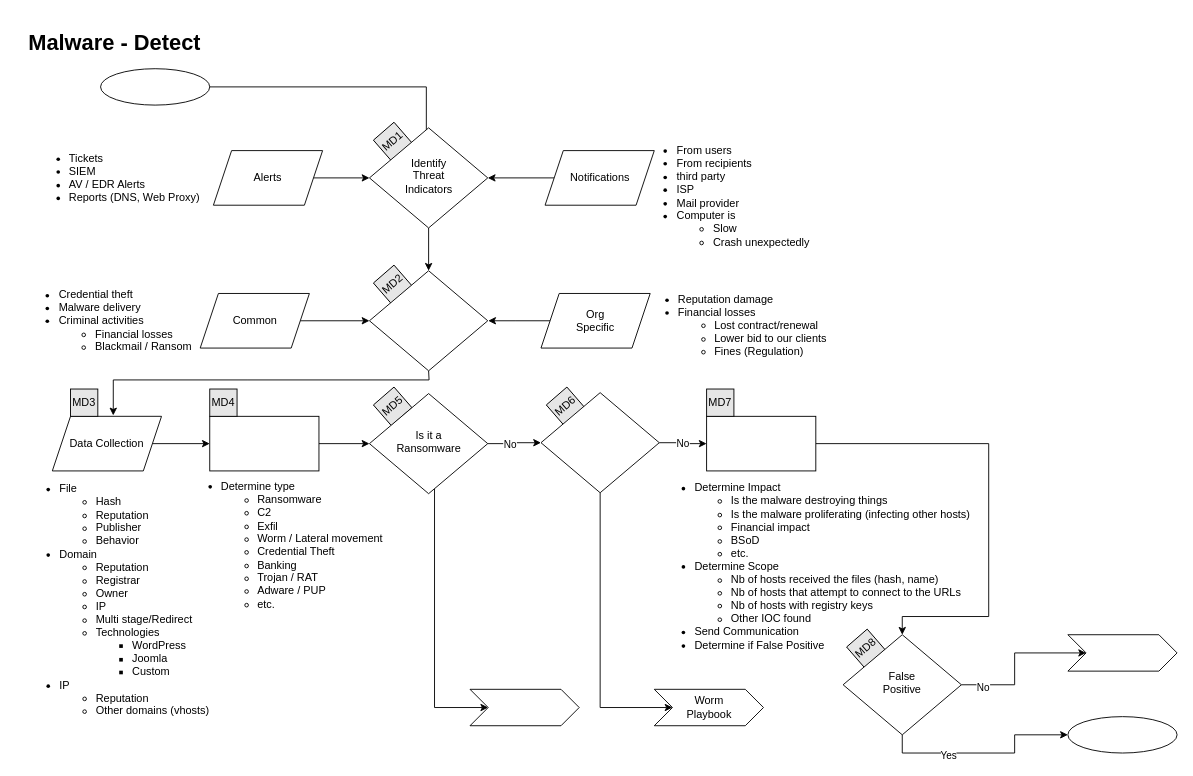
Image size: 1193x776. Some labels were removed from this diagram. Each missing label, with the centre of its shape:
Categorize: point (264, 443)
Identify Risk Factors: point (428, 320)
Is it a Worm: point (599, 442)
Next (Analyze): point (1122, 652)
Ransomware Playbook: point (524, 707)
Start: point (155, 86)
Stop: point (1122, 734)
Triage: point (761, 443)
